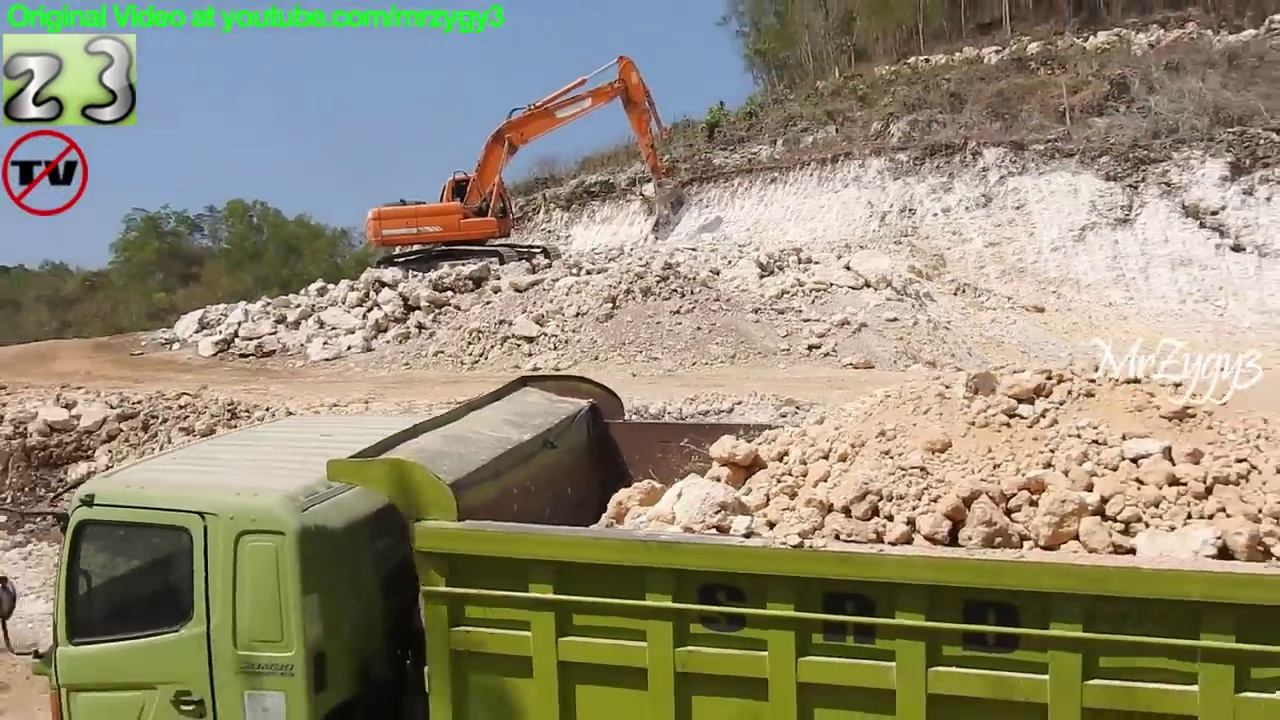excavator breaker: (361, 51, 695, 290)
truck: (1, 368, 1280, 720)
